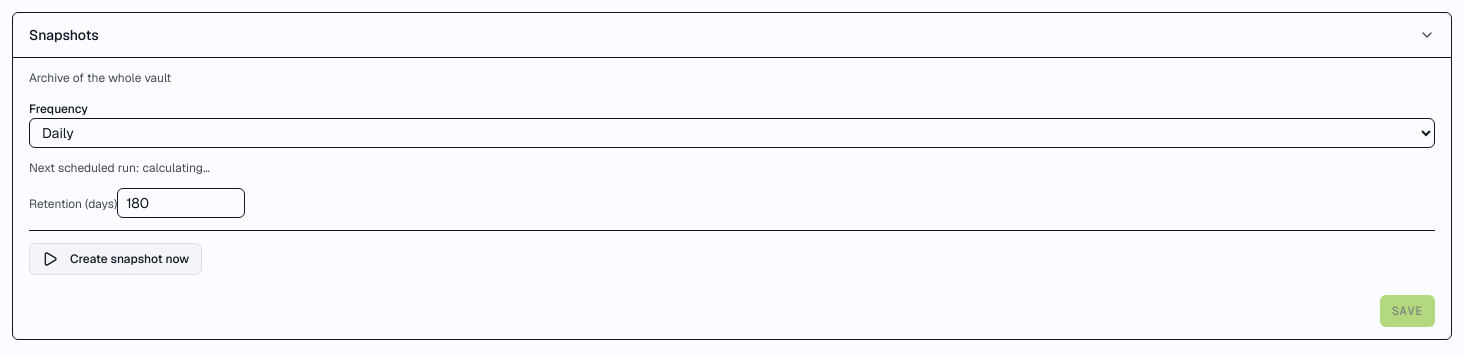
SnapshotsSection › changing schedule preset enables Save and PATCHes
Later steps or results of the test are not shown.
Expected: the text "Snapshots" is shown, [29,25,99,45]
Select "Off" in the dropdown: (732, 133) [29,118,1435,148]
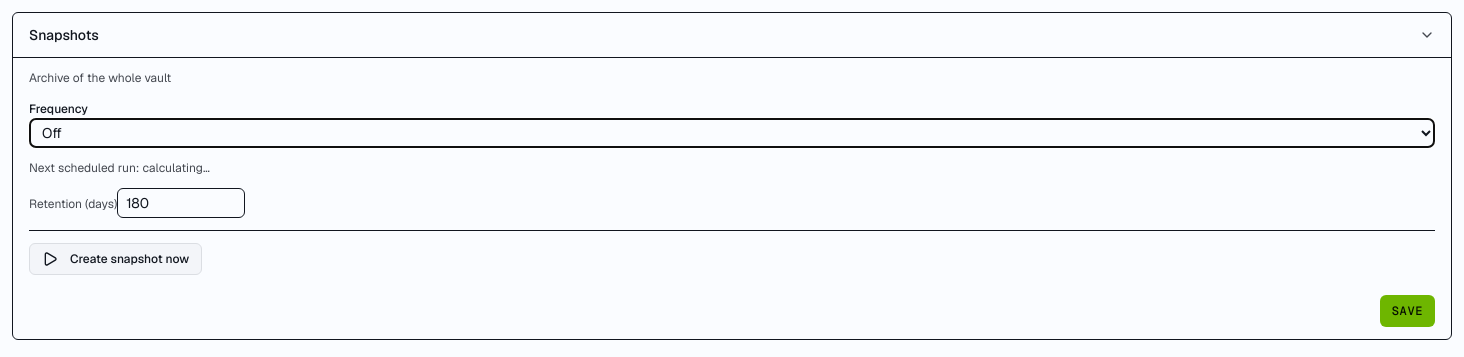
Result: the button "Save" is enabled at [1380,295,1435,327]
